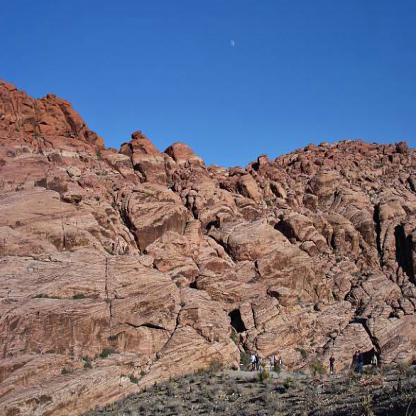Sedimentary_Sandstone: (0, 184, 95, 255), (103, 255, 175, 337), (117, 176, 188, 248), (0, 96, 64, 162), (173, 291, 233, 355), (224, 214, 294, 264), (379, 188, 415, 271), (319, 320, 368, 374), (303, 161, 340, 210), (127, 130, 159, 168), (169, 144, 207, 175), (236, 171, 264, 202)
